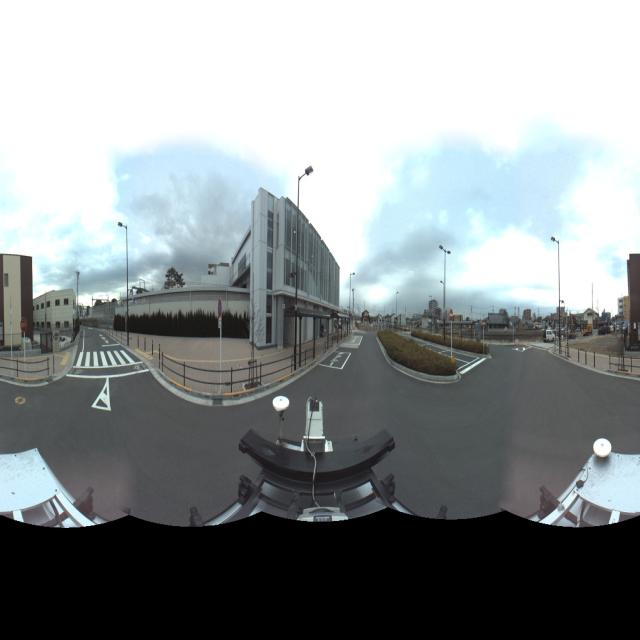b_1: (232, 189, 342, 357), (0, 252, 36, 351), (34, 281, 84, 350), (625, 257, 640, 336), (617, 290, 633, 338)
